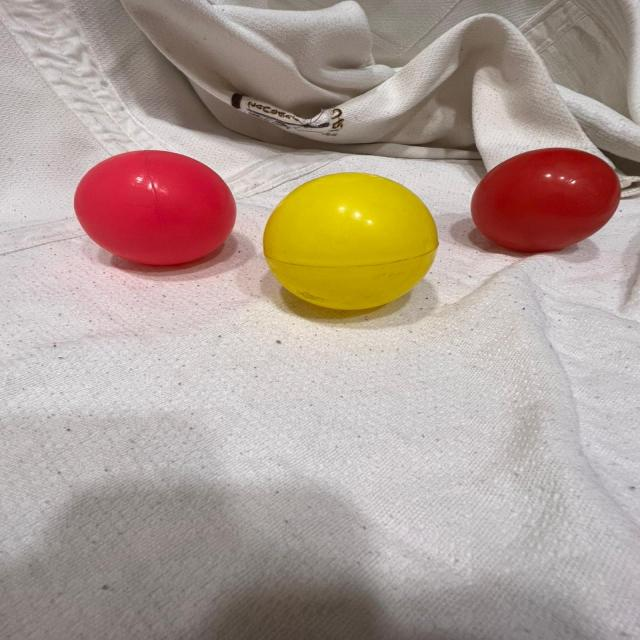ball: (260, 170, 440, 312), (70, 148, 238, 267), (468, 144, 624, 255)
